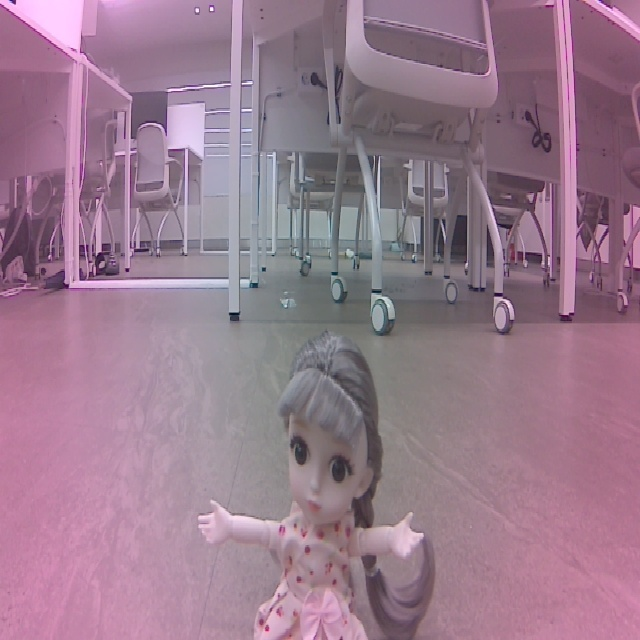장애물: (186, 328, 434, 640)
